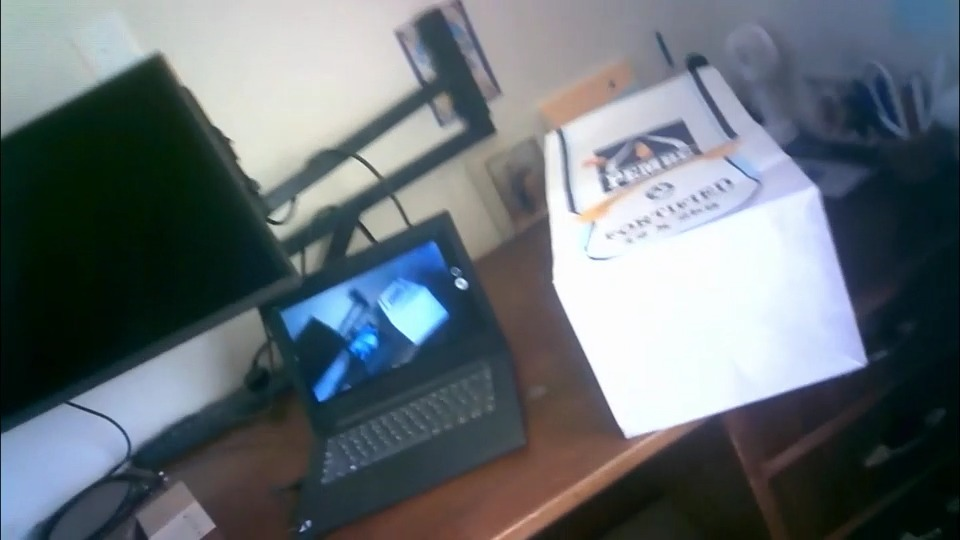wheat_flour_blue_label: (549, 64, 864, 440)
